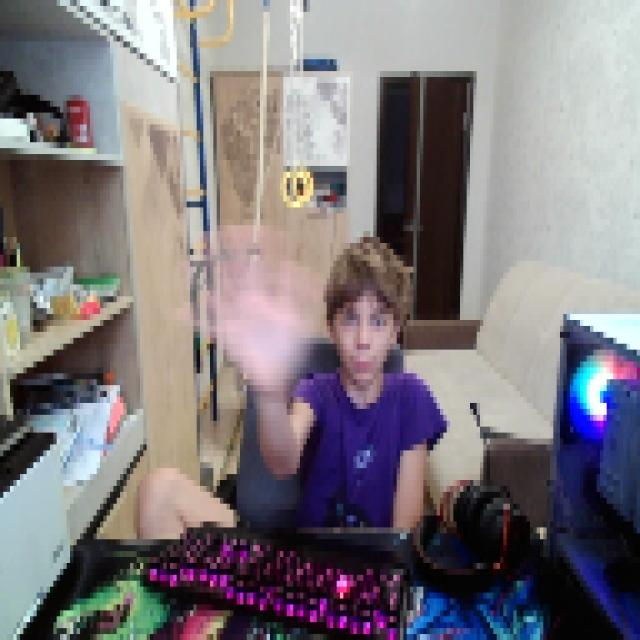hand: (198, 212, 324, 390)
